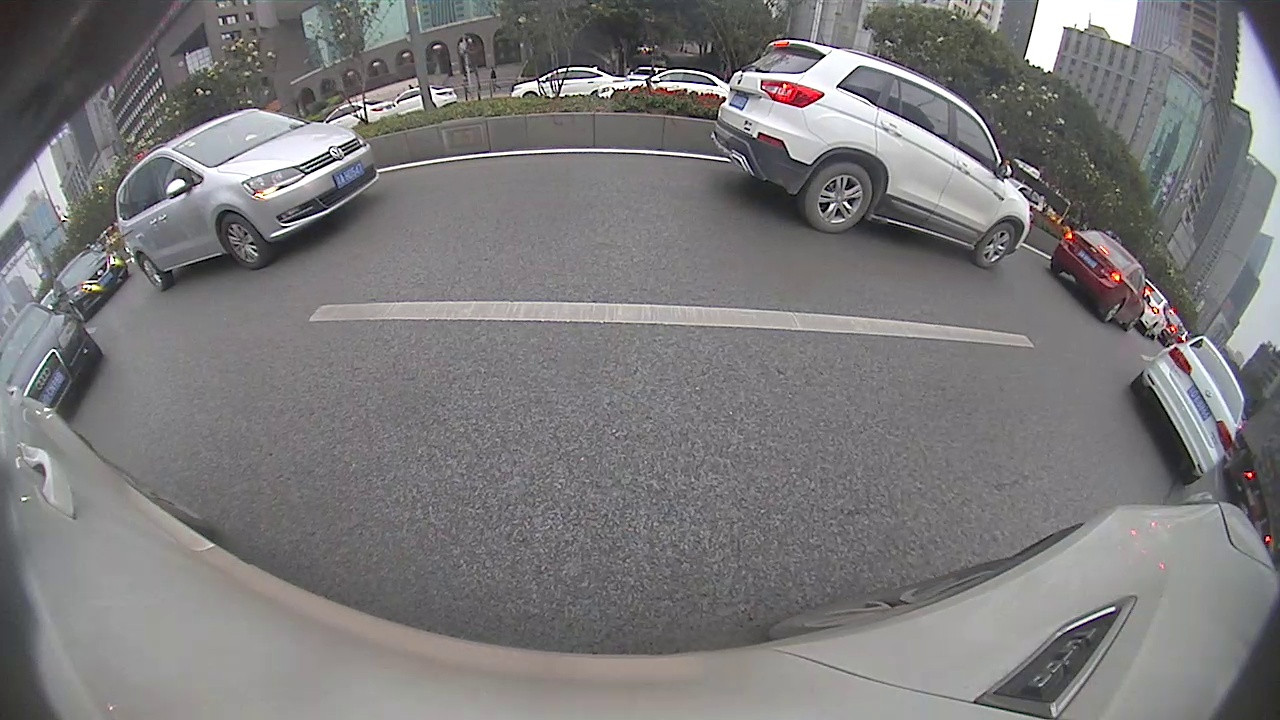car: (709, 39, 1035, 270), (115, 107, 381, 290), (1128, 332, 1246, 486), (1, 303, 103, 416), (1048, 231, 1153, 335), (48, 248, 130, 320)
front: (222, 213, 267, 269), (974, 226, 1018, 268), (523, 93, 537, 103)
rear: (807, 165, 871, 234), (135, 252, 167, 289)
